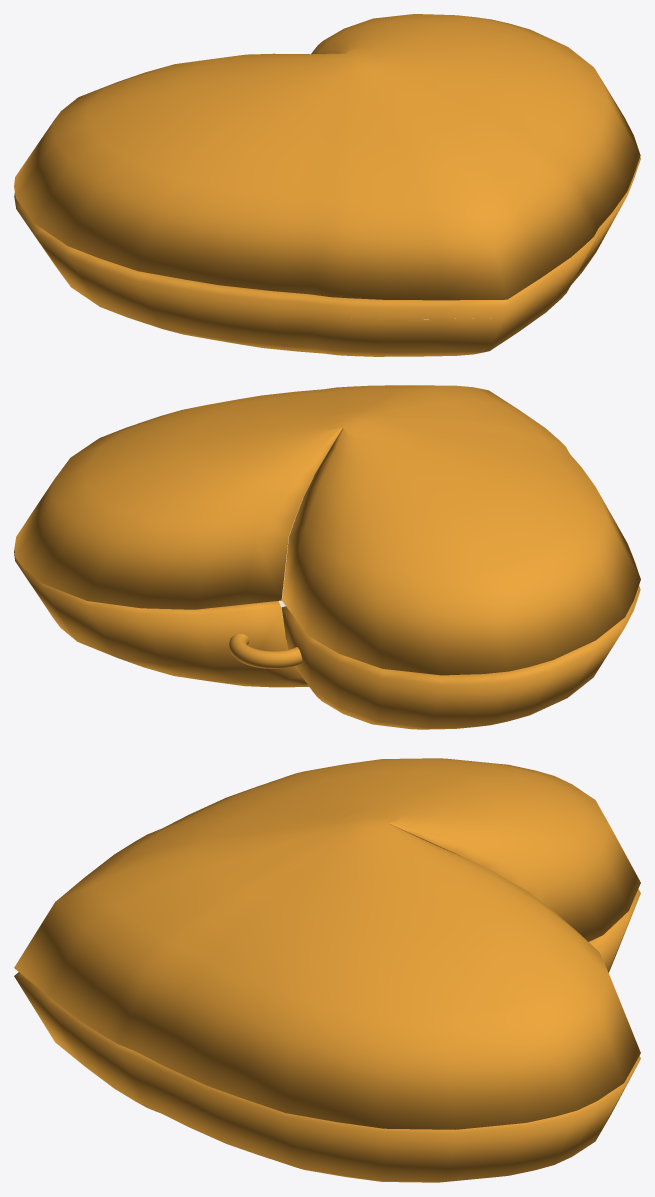
File: Coracao.fbx
3 views of the same model, one above another, from view 1: azimuth 30°, elevation 25°; view 2: azimuth 150°, elevation 25°; view 3: azimuth 270°, elevation 25° (orthographic). The views are drawn at different scales.
Visible parts, largest first — view 1: Cube.003, Cube.001; view 2: Cube.003, Cube.001; view 3: Cube.003, Cube.001.
Boxes of the visible parts, x1,y1,x2,y2 form: Cube.003: (14, 14, 640, 300); Cube.001: (14, 157, 640, 356); Cube.003: (14, 385, 640, 675); Cube.001: (14, 550, 640, 729); Cube.003: (14, 758, 640, 1129); Cube.001: (14, 889, 640, 1182).
Size of the model in its own units: 400 by 178 by 336.
